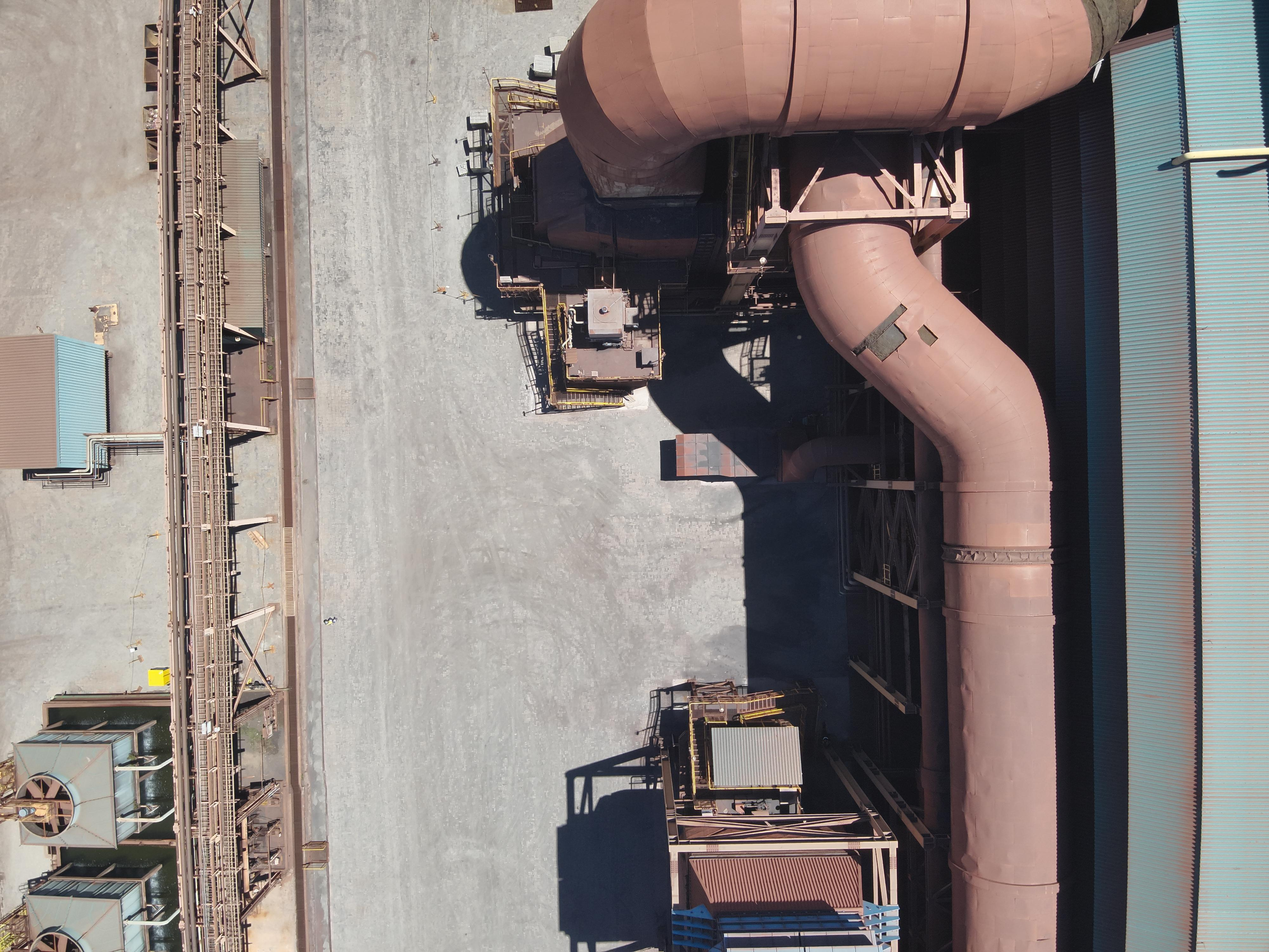Failures: (1080, 1, 1132, 66), (853, 304, 914, 358), (918, 323, 940, 351)
